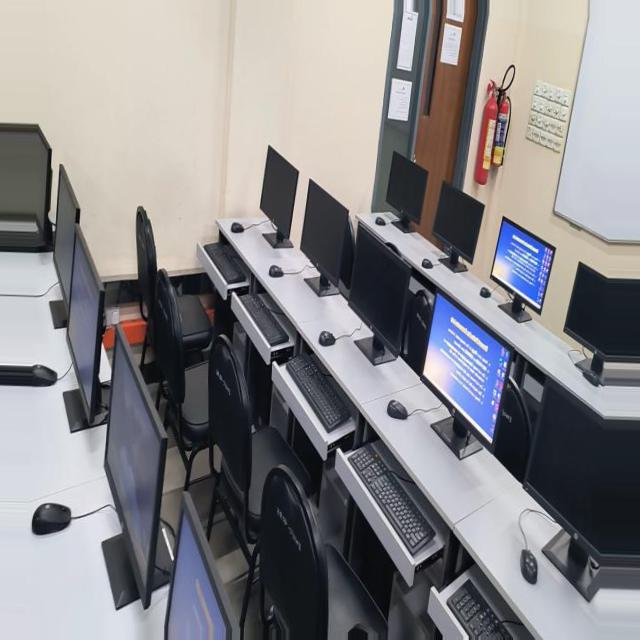Chair: (325, 340, 443, 639), (236, 473, 387, 639), (441, 273, 505, 480), (83, 377, 123, 479), (501, 210, 527, 334), (440, 291, 485, 356), (196, 286, 226, 374), (284, 209, 303, 287)
Cpu: (227, 513, 277, 624), (313, 423, 347, 508), (371, 338, 402, 430), (414, 293, 439, 344)
Fire Extinguisher: (127, 69, 152, 175), (114, 84, 133, 156)
Keyboard: (185, 446, 285, 561), (281, 356, 357, 436), (96, 581, 170, 639), (354, 295, 410, 349), (403, 244, 451, 286)
Monitor: (486, 335, 555, 622), (0, 371, 89, 559), (108, 289, 204, 442), (401, 501, 484, 639), (219, 220, 290, 354), (559, 231, 601, 433), (61, 208, 131, 306), (291, 176, 344, 293), (0, 252, 48, 351), (140, 174, 197, 257), (590, 169, 619, 319), (348, 143, 390, 237), (204, 145, 250, 218), (620, 130, 640, 260)
Mouse: (591, 518, 635, 550), (610, 375, 640, 398), (71, 549, 90, 583), (219, 399, 243, 418), (302, 330, 321, 346), (362, 265, 378, 278), (407, 222, 422, 233), (195, 253, 208, 264), (130, 281, 142, 292), (249, 212, 261, 221)
